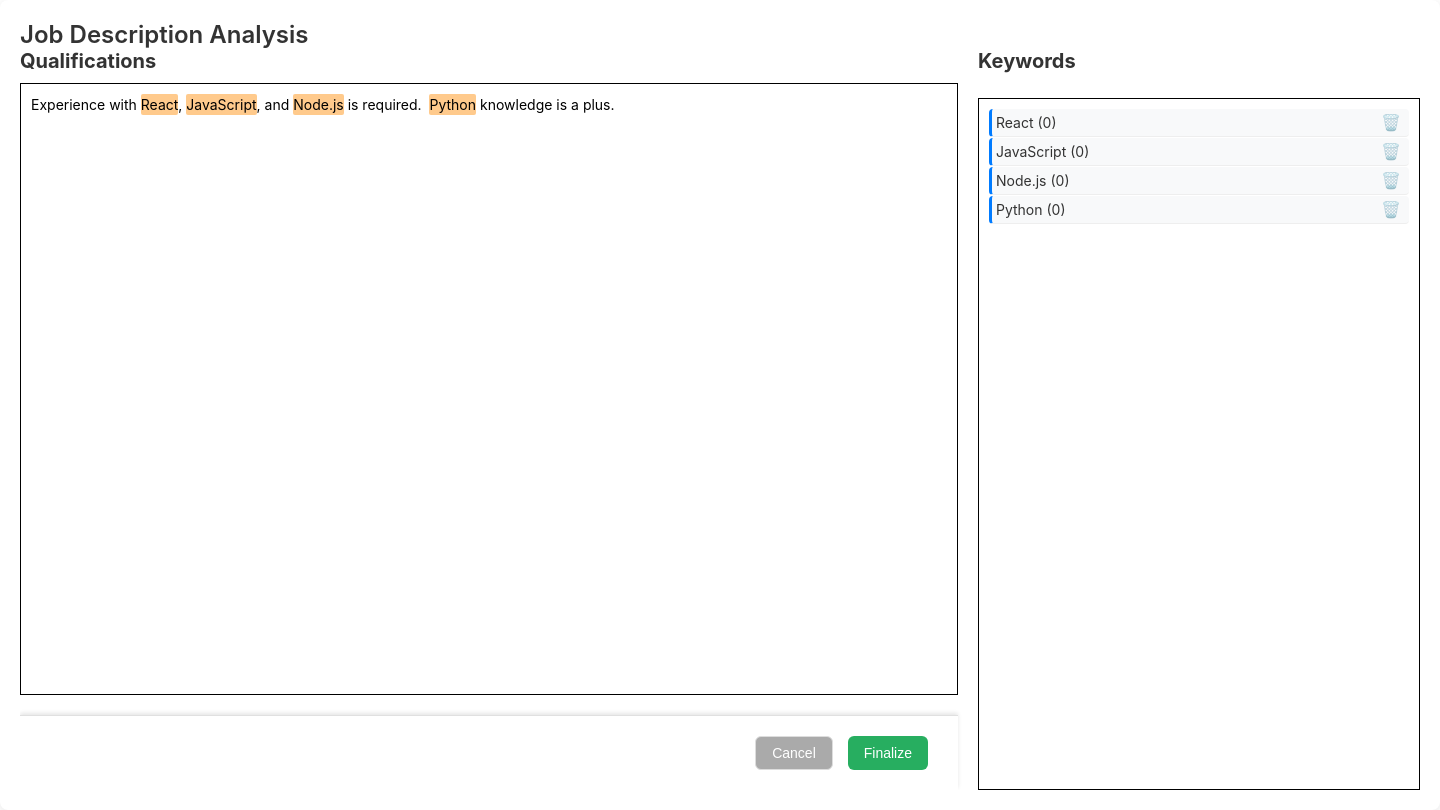
Scenario: JobAnalysis Component › Finalize Process › shows loading message during finalization
Click the button "Finalize".
click(888, 753)  # box [848,736,928,770]
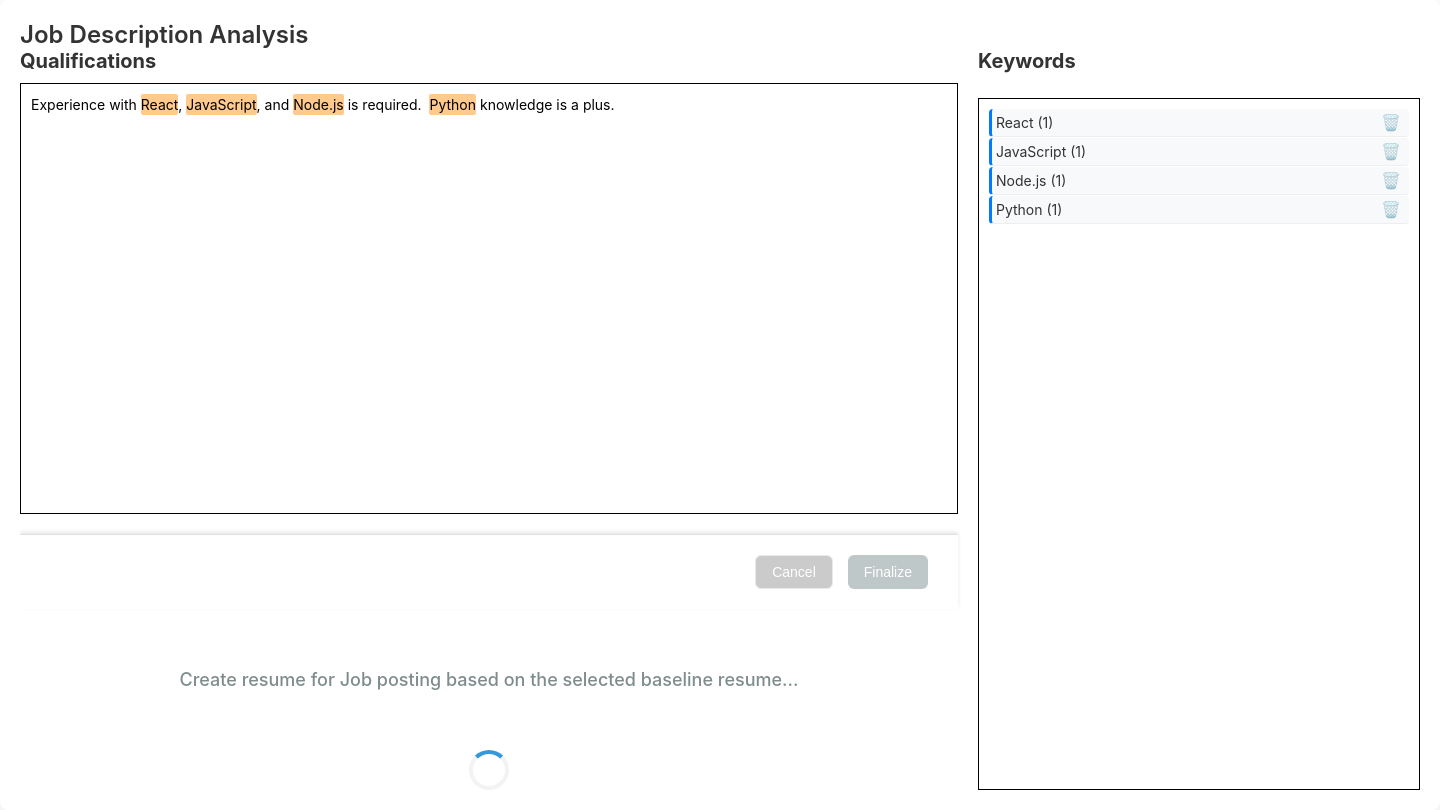
Now the text "Create resume for Job posting" is shown, box [180,669,798,690]
